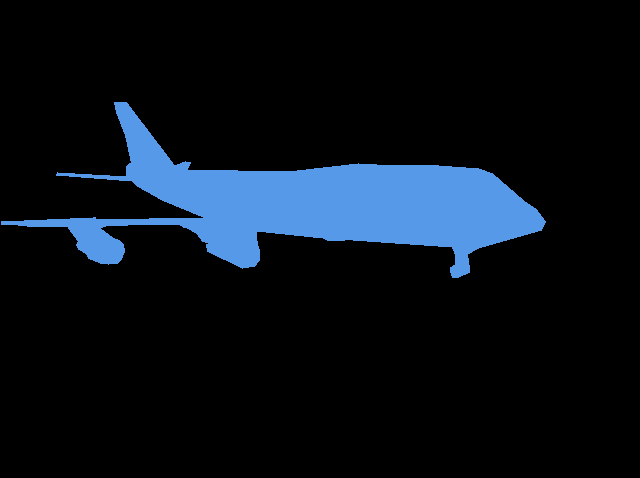Airplane: (1, 102, 546, 278)
